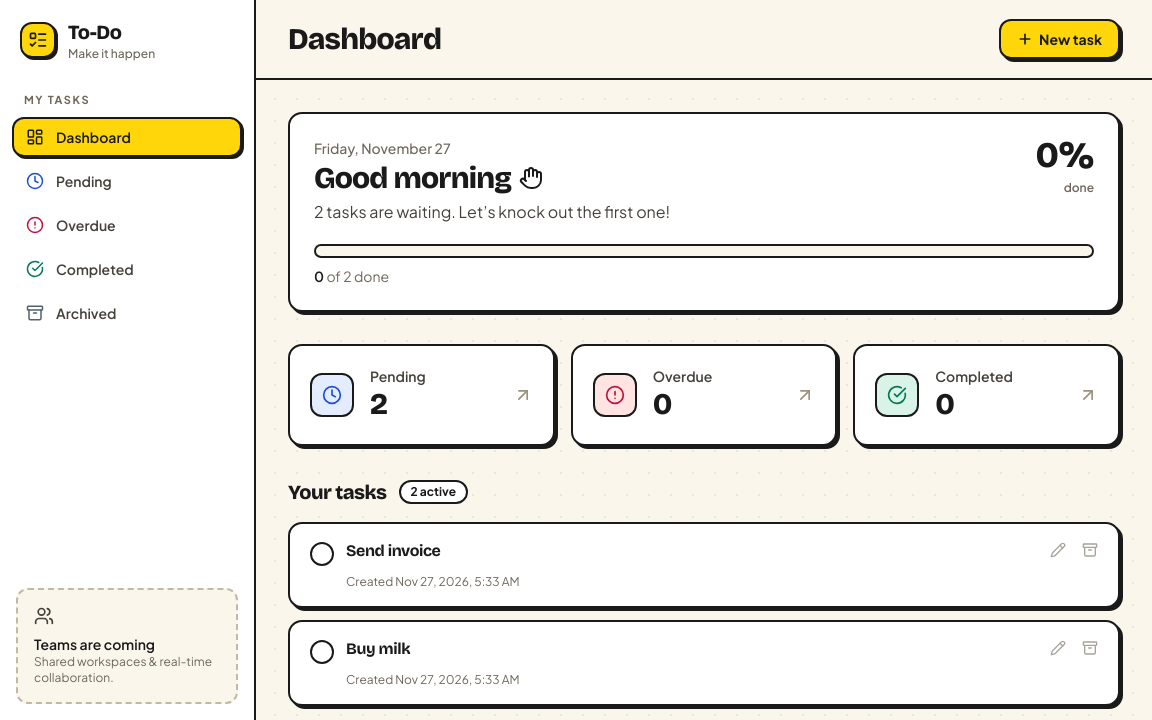
Test: completing a task › marks the task complete, records the time and updates the counters
This screenshot has width=1152, height=720.
Expected: the list named "Tasks" is shown, top-left (288, 522), bottom-right (1120, 706)
Expected: the text with test id "count-pending" reads "2", top-left (370, 386), bottom-right (388, 422)
Click the checkbox named "Mark \"Send invoice\" as complete". click: point(322, 554)
box: top-left (310, 542), bottom-right (334, 566)
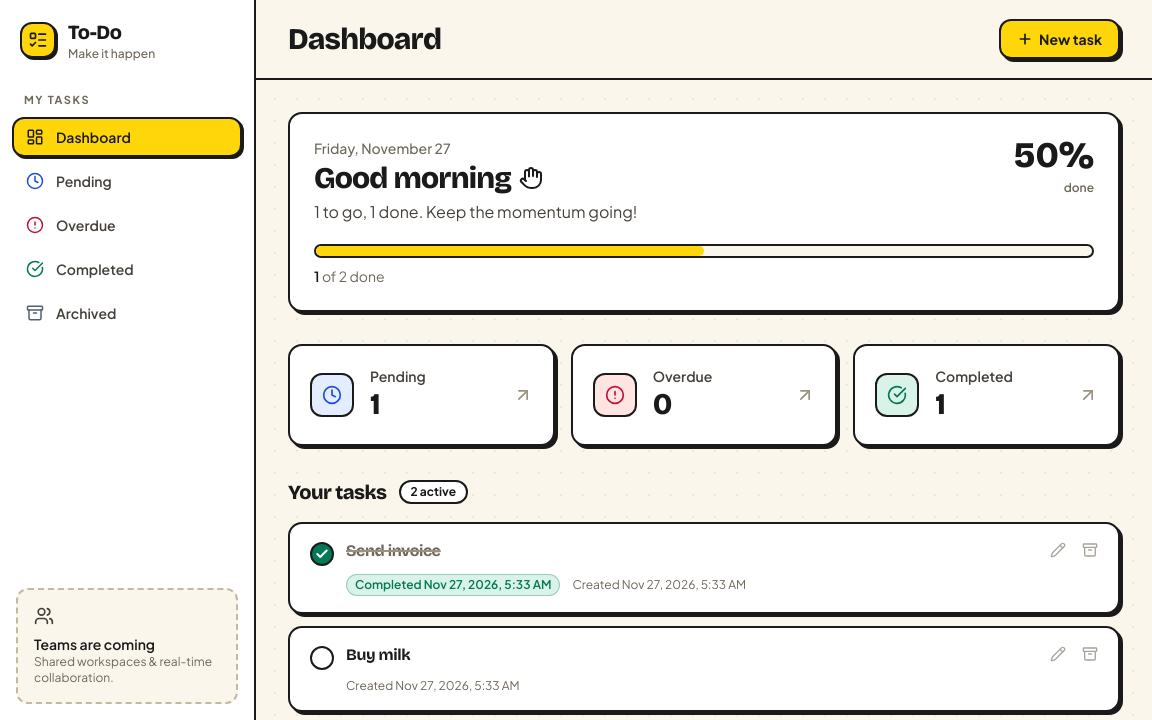
Expected: the text "Completed Nov 27, 2026, 5:33 AM" is shown, top-left (346, 574), bottom-right (560, 596)
Expected: the text with test id "count-pending" reads "1", top-left (370, 386), bottom-right (380, 422)
Expected: the text with test id "count-completed" reads "1", top-left (935, 386), bottom-right (946, 422)
